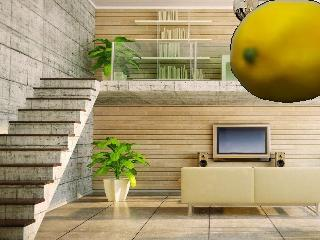lemon: (230, 0, 320, 102)
